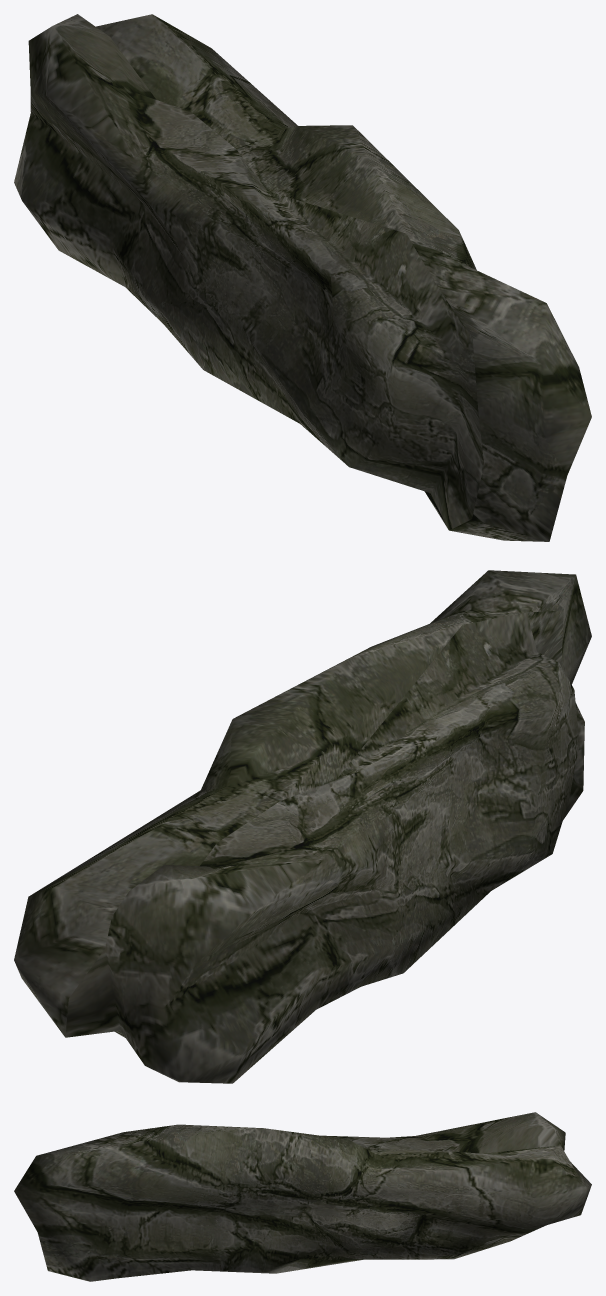
The model's file is TI_Cliff_02_Stone_04.fbx.
The picture shows the model from 3 angles, top to bottom: view 1: azimuth 30°, elevation 25°; view 2: azimuth 150°, elevation 25°; view 3: azimuth 270°, elevation 25°; orthographic projection. The views are drawn at different scales.
Visible parts, largest first — view 1: TI_Cliff_02_Stone_04; view 2: TI_Cliff_02_Stone_04; view 3: TI_Cliff_02_Stone_04.
Part boxes in pixels (x1,y1,x2,y2): TI_Cliff_02_Stone_04: (14,14,591,541); TI_Cliff_02_Stone_04: (14,570,591,1083); TI_Cliff_02_Stone_04: (14,1112,591,1281).
Size of the model in its own units: 1.17 by 1.53 by 5.09.
